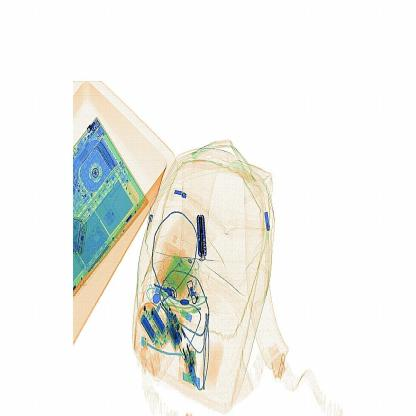scissors: (194, 210, 210, 262)
